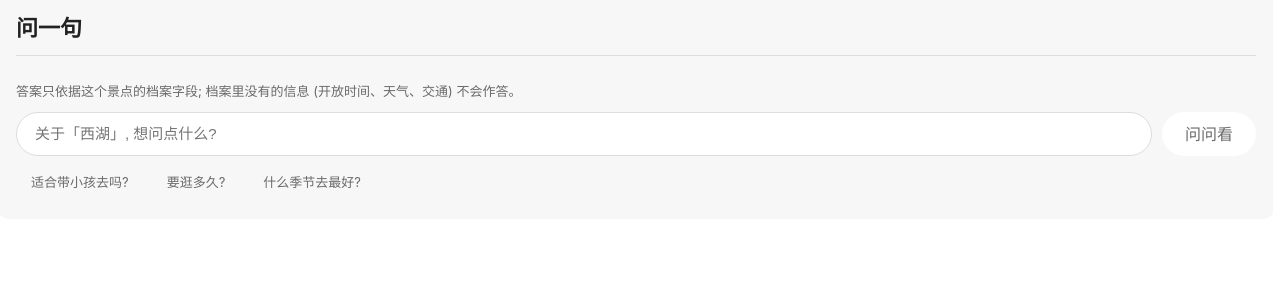
AiAskBox › 请求失败显示错误态
In the field named "就这个景点问一句": [584, 134] box [16,112,1152,156], type "要逛多久?"
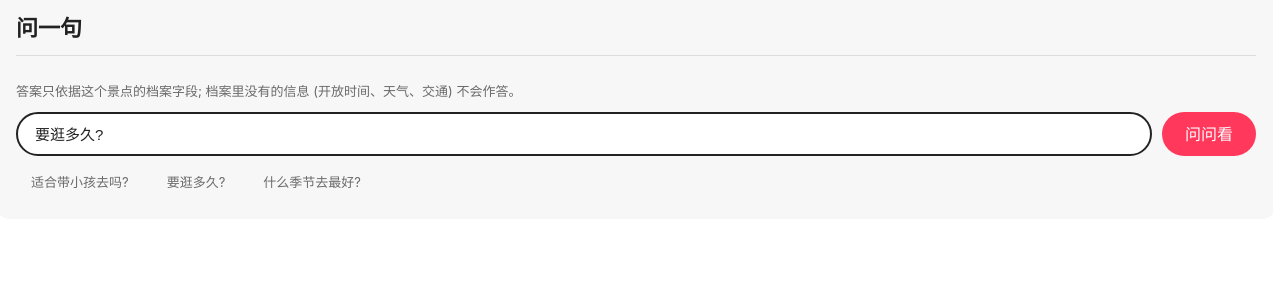
Click the button "问问看": [1209, 134] box [1162,112,1256,156]
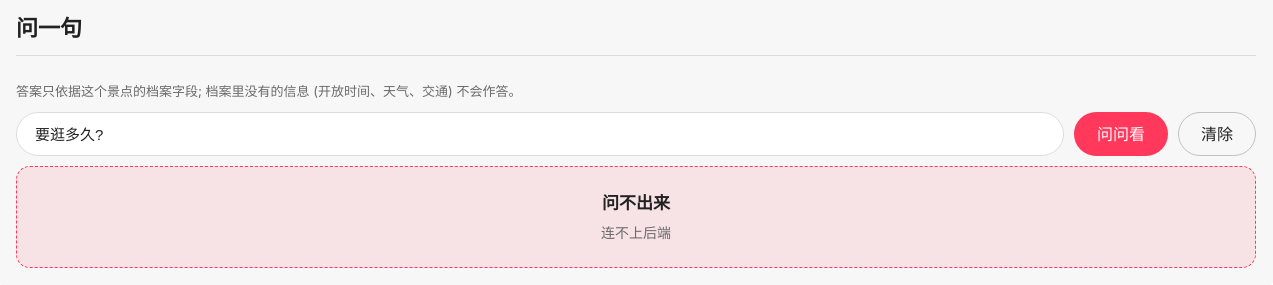
Now the message shows "问不出来", box [602,192,670,212]
Now the message shows "连不上后端", box [601,224,671,241]
